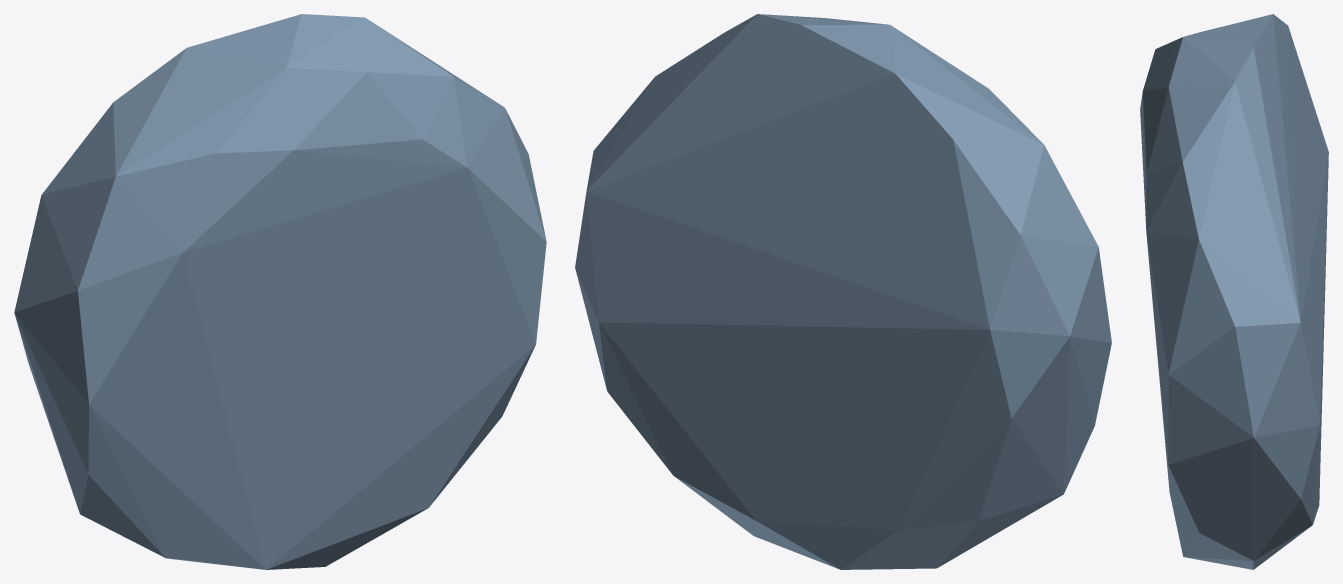
File: food_prepared_bagel_e01.glb
3 views of the same model, side by side, from view 1: azimuth 30°, elevation 25°; view 2: azimuth 150°, elevation 25°; view 3: azimuth 270°, elevation 25° (orthographic). The views are drawn at different scales.
Parts seen in each view (by area): view 1: geometry_0; view 2: geometry_0; view 3: geometry_0.
Boxes of the visible parts, left/top/right/bottom form: geometry_0: left=14, top=14, right=546, bottom=569; geometry_0: left=575, top=14, right=1111, bottom=569; geometry_0: left=1140, top=14, right=1328, bottom=569.
Size of the model in its own units: 0.467 by 0.4691 by 0.1585.
